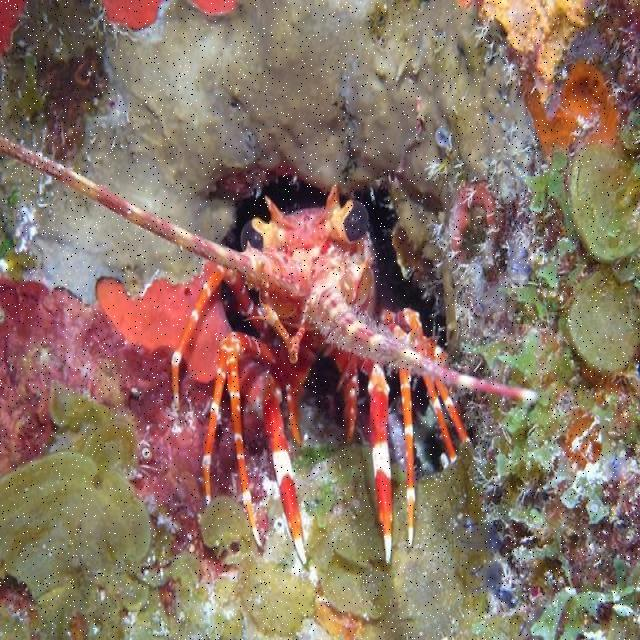reefs: (0, 135, 541, 565)
